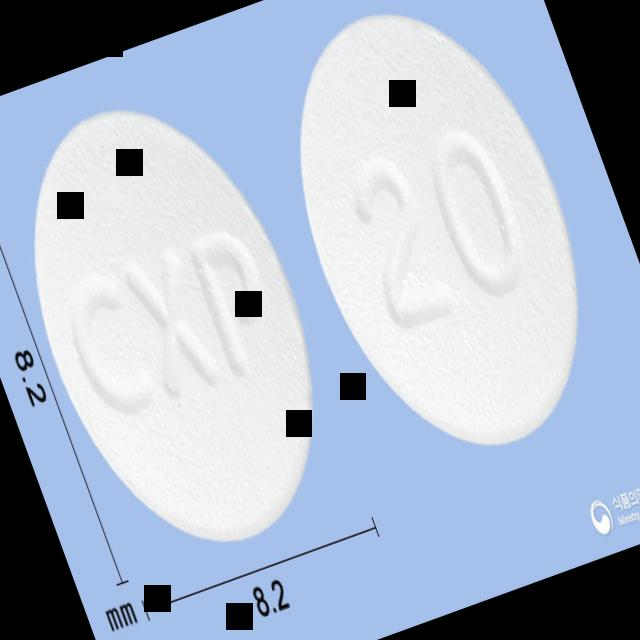Clafacin: (0, 68, 368, 580), (248, 0, 632, 483)
